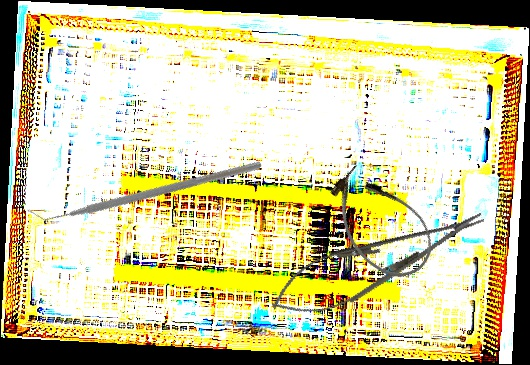Cannula: (314, 154, 447, 293)
Chopper: (26, 68, 263, 307)
Needle Holder: (262, 192, 494, 333)
